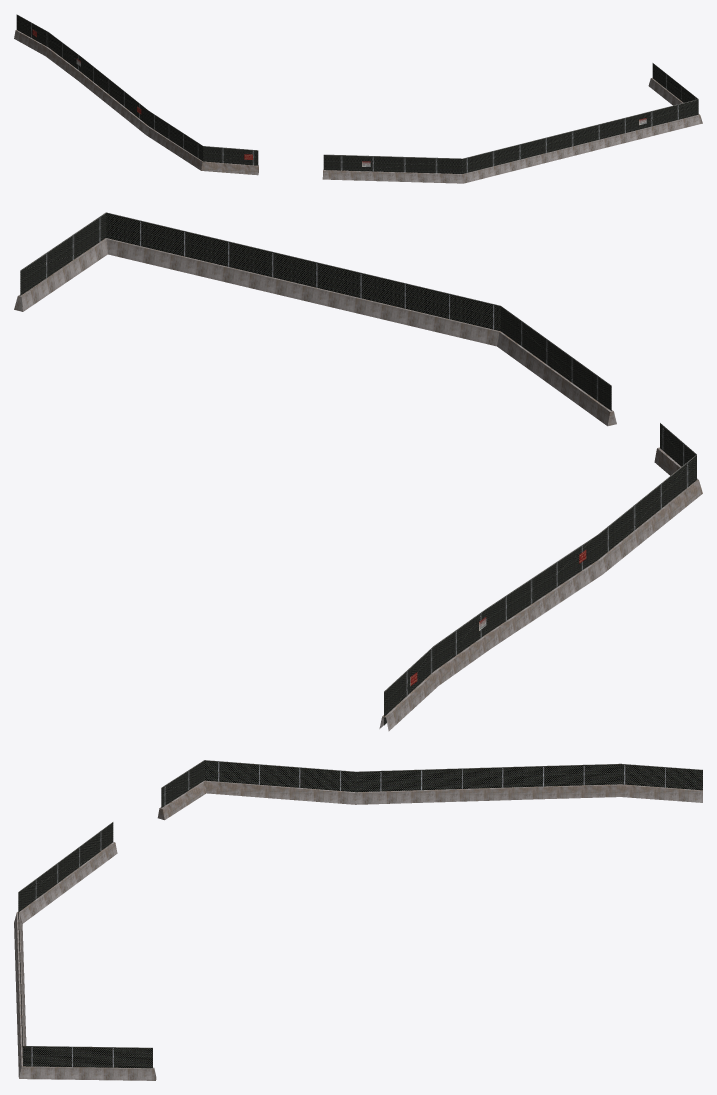
The model's file is a51_extfence02.obj.
3 views of the same model, one above another, from view 1: azimuth 30°, elevation 25°; view 2: azimuth 150°, elevation 25°; view 3: azimuth 270°, elevation 25° (orthographic). The views are drawn at different scales.
Visible parts, largest first — view 1: a51_extfence02; view 2: a51_extfence02; view 3: a51_extfence02.
Part boxes in pixels (x1,y1,x2,y2): a51_extfence02: (14,14,702,183); a51_extfence02: (14,212,702,731); a51_extfence02: (14,760,702,1080).
Size of the model in its own units: 82.18 by 5.61 by 85.
Materials: 4 (4 with a texture image).
